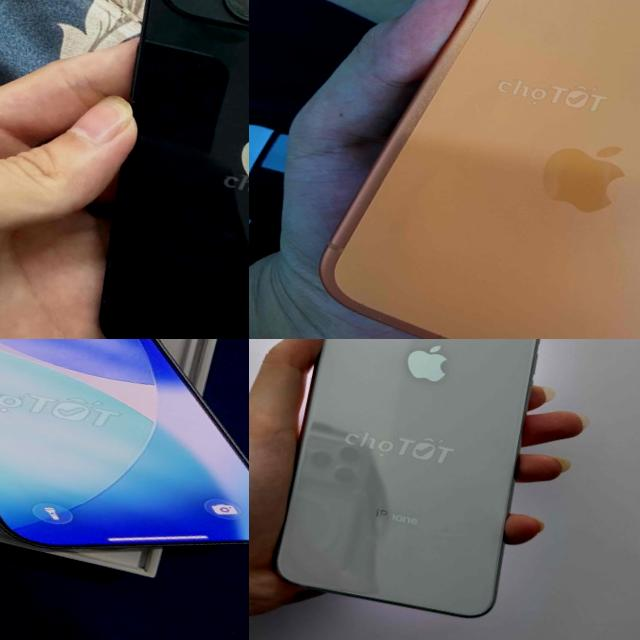gen_12_13: (61, 0, 249, 339)
gen_17: (298, 0, 640, 339), (0, 339, 249, 602)
gen_x_xs: (275, 339, 539, 616)
